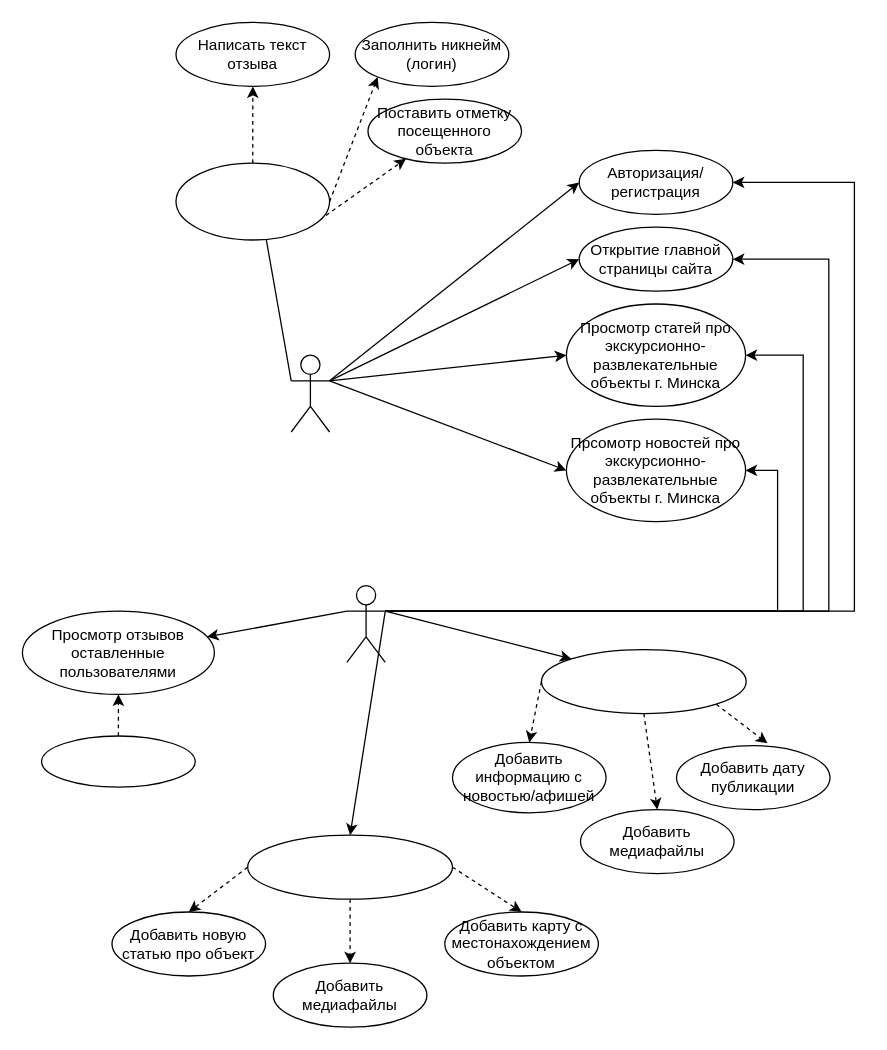
The diagram is 887 pixels wide and 1050 high, and some of its shapes have lost their labels. The shapes that lost their labels are listed below. From the top down, each one's box as (x1, y1, x2, y2) in pixels, then its label:
(175, 162, 330, 240): Заполнение формы обратной связи
(290, 354, 330, 432): Пользователь
(346, 584, 385, 662): Администратор
(540, 648, 746, 714): Обновление блока с новостями/афишами
(40, 735, 195, 787): Одобрить/отклонить
(246, 834, 452, 899): Обновление страницы со статьями
